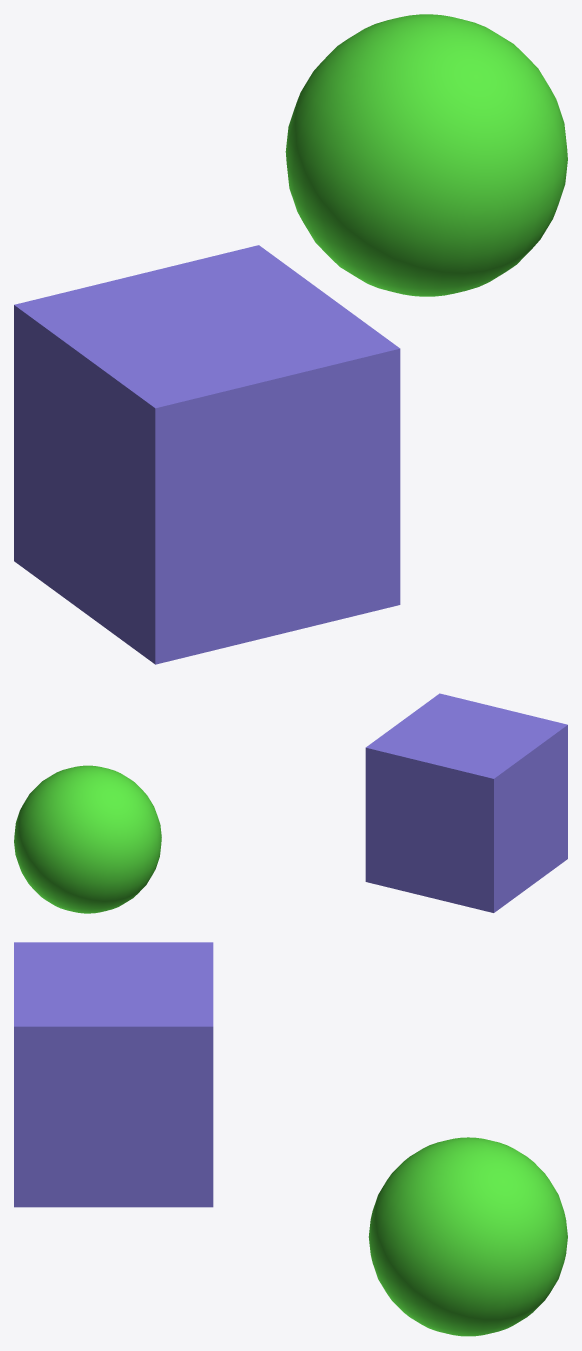
3 views of the same model, one above another, from view 1: azimuth 30°, elevation 25°; view 2: azimuth 150°, elevation 25°; view 3: azimuth 270°, elevation 25° (orthographic). The views are drawn at different scales.
Visible parts, largest first — view 1: Cube, Sphere; view 2: Cube, Sphere; view 3: Cube, Sphere.
Boxes of the visible parts, box(x1,y1,x2,y2) form: Cube: box(14, 245, 400, 664); Sphere: box(285, 14, 567, 296); Cube: box(365, 693, 567, 912); Sphere: box(14, 765, 161, 913); Cube: box(14, 942, 213, 1207); Sphere: box(368, 1137, 567, 1336).
Size of what is drawn, in the model's own units: 5.85 by 2 by 5.56.
